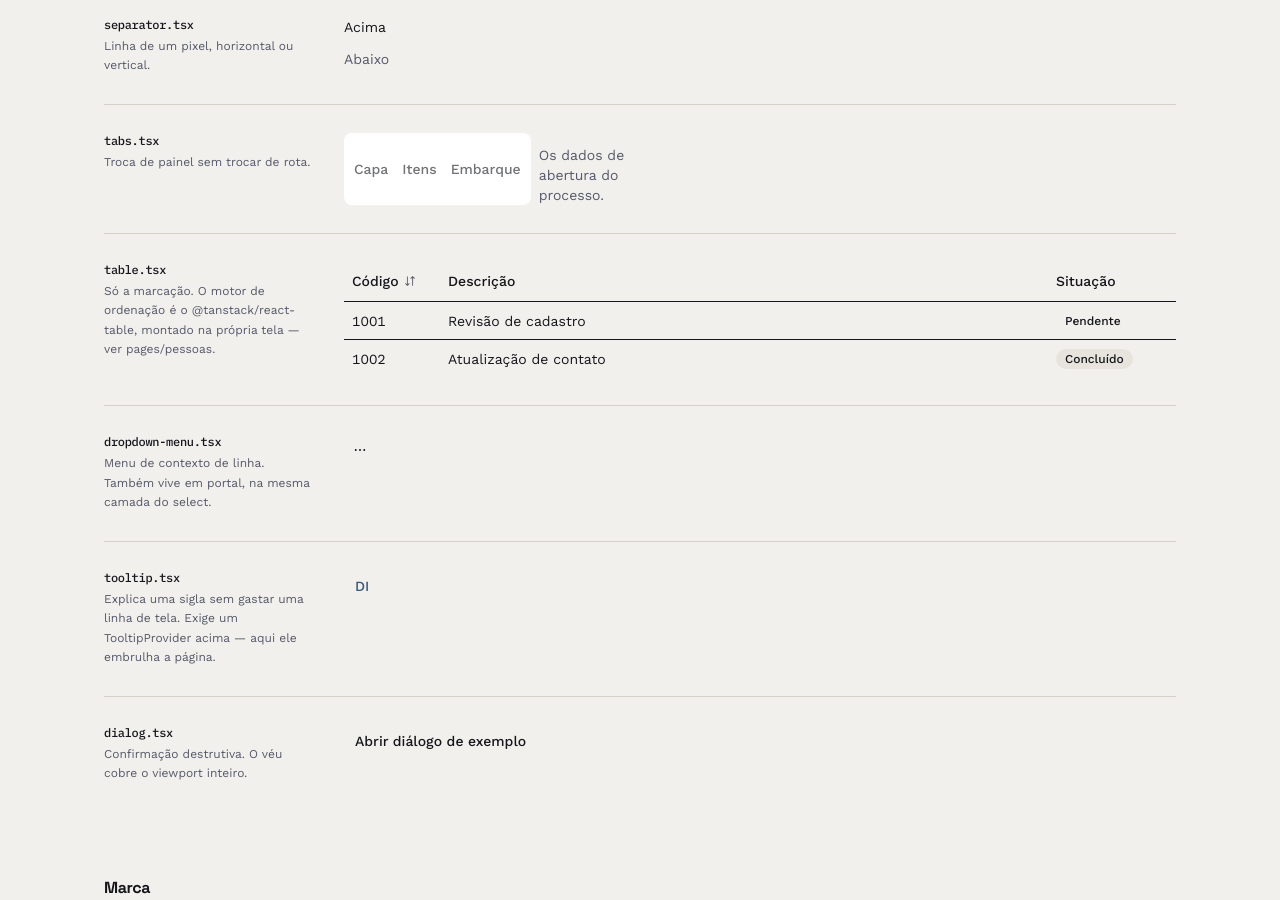
Test: PaginaDesignSystem › a amostra do dropdown-menu monta o menu de verdade quando aberta
(page scrolled)
Click the button named "Ações do registro". click: (360, 450)
box: [344,434,376,466]
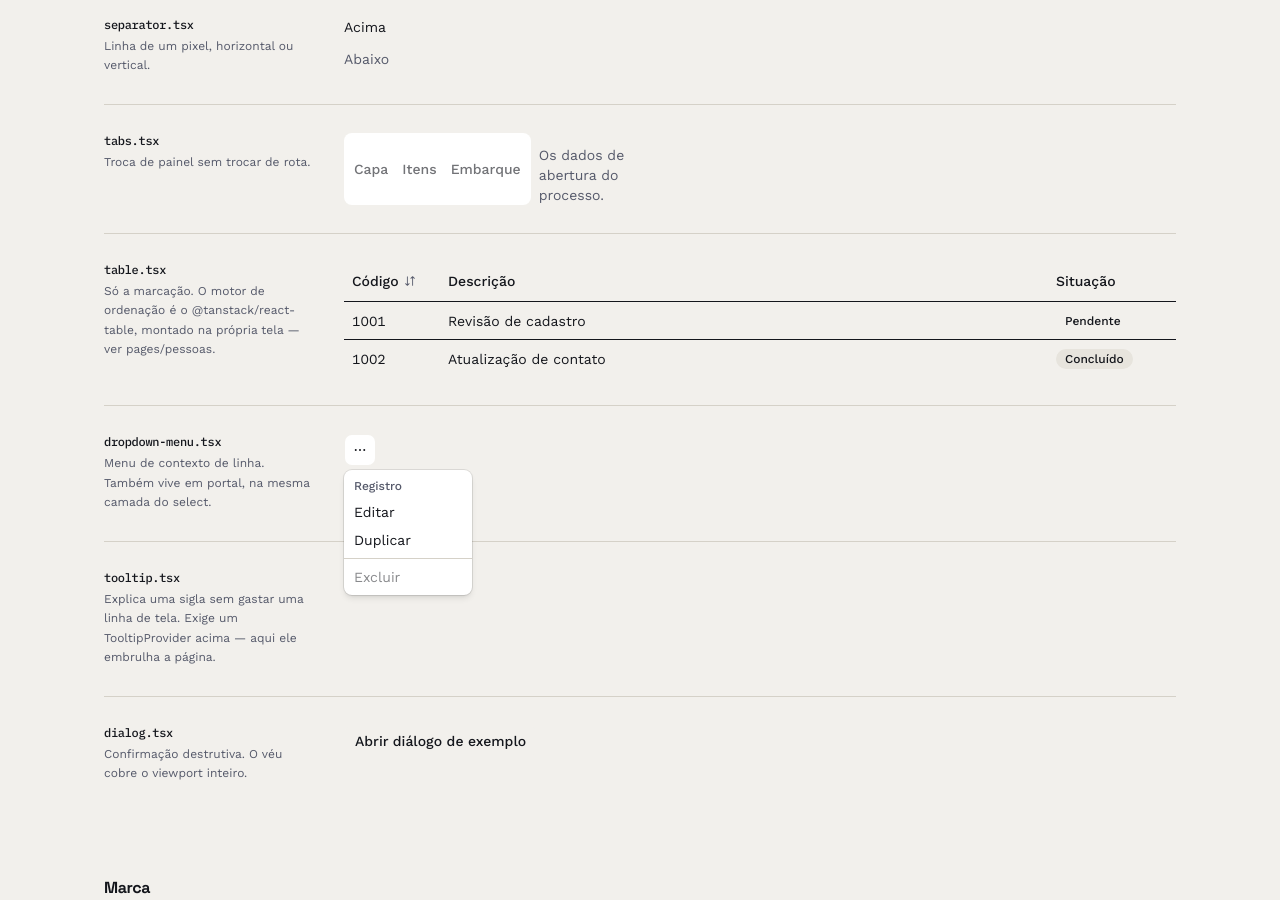
Check: the menu item "Editar" is shown, box [354,504,395,520]
